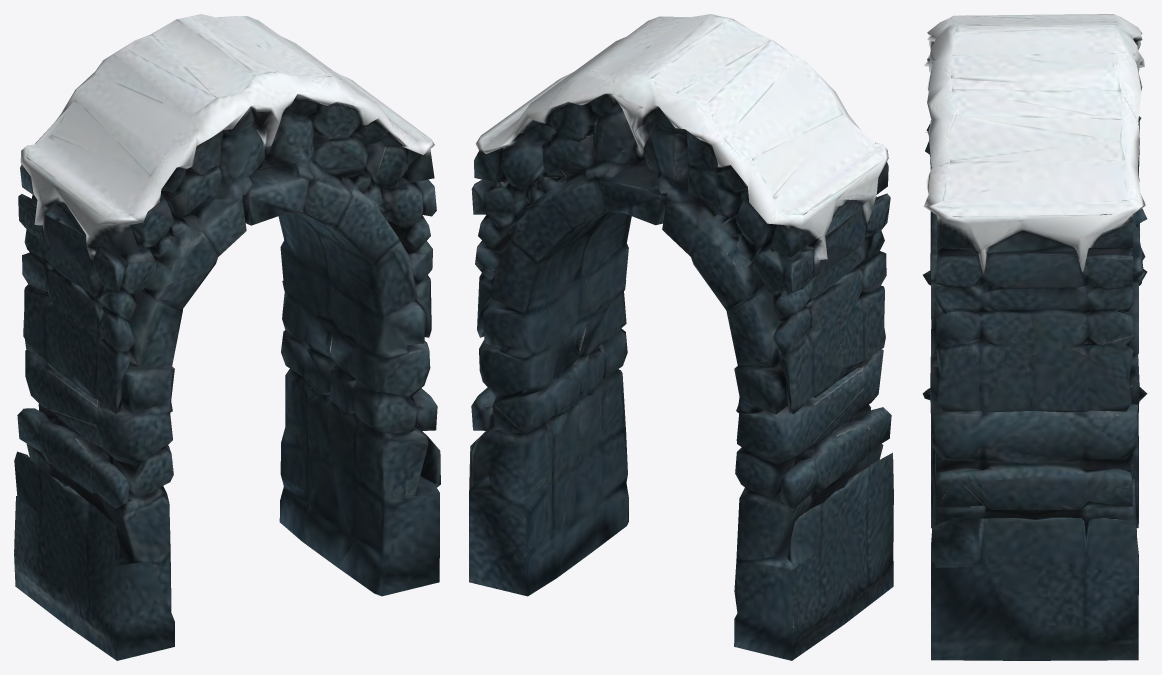
File: arch.glb
The picture shows the model from 3 angles, left to right: view 1: azimuth 30°, elevation 25°; view 2: azimuth 150°, elevation 25°; view 3: azimuth 270°, elevation 25°; orthographic projection. The views are drawn at different scales.
Bounding box in the file's own units: 1.25 × 1.9 × 0.7023.
Materials: 1 (1 with a texture image).
